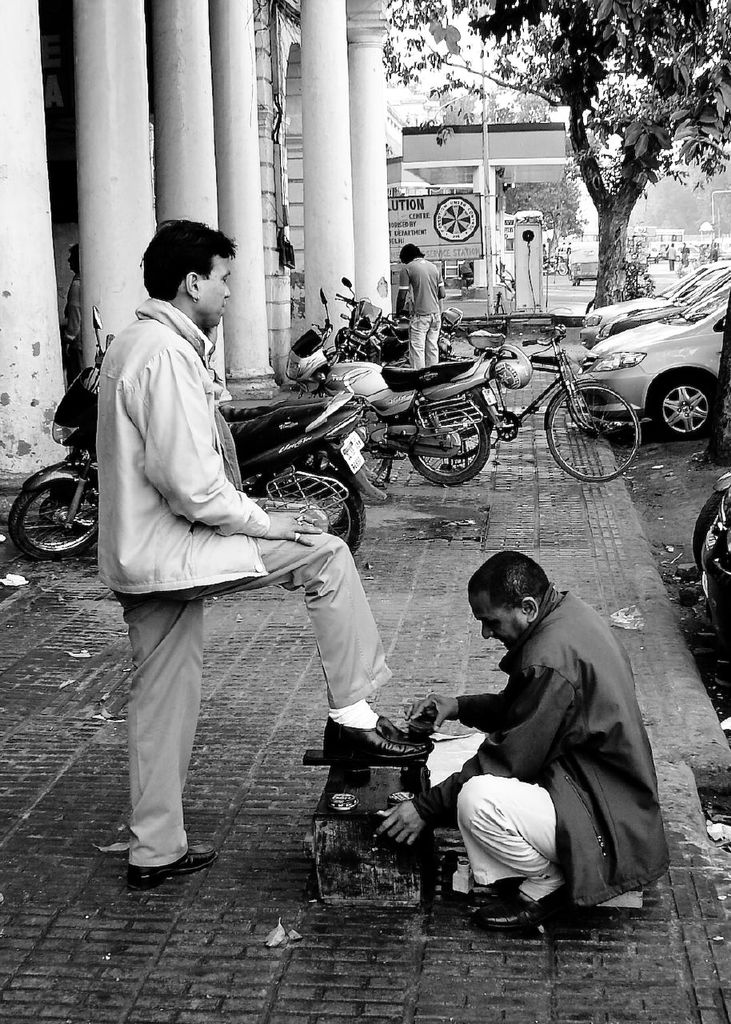Footwear: (322, 723, 451, 801), (129, 845, 218, 890), (473, 895, 561, 929)
